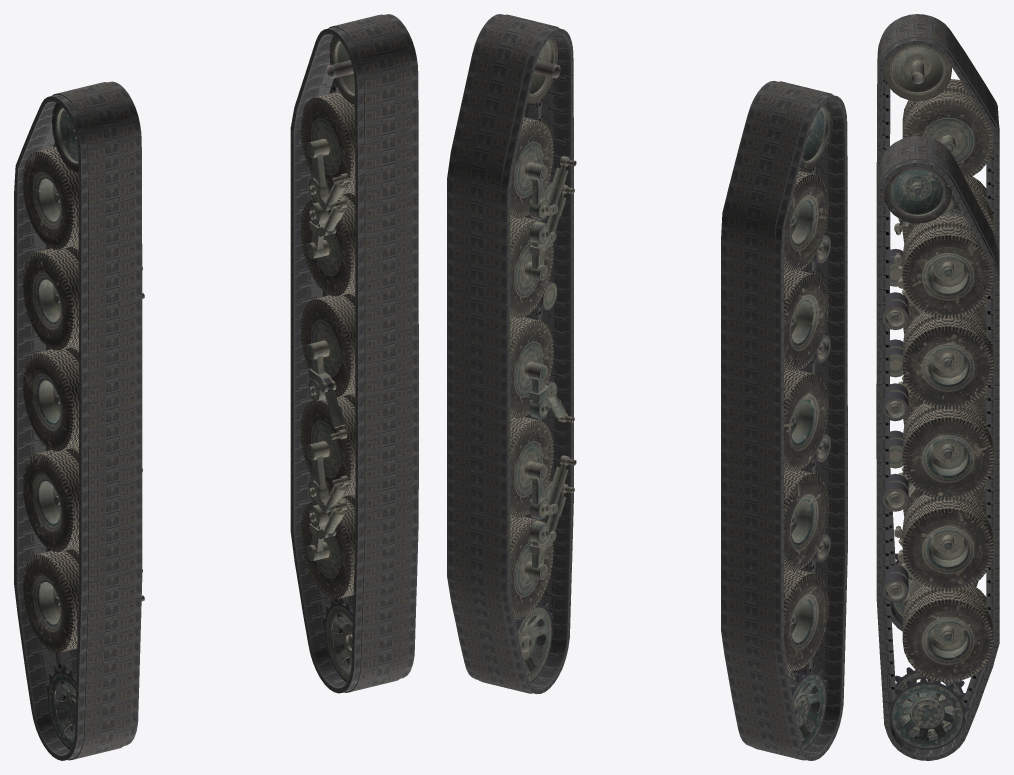
The model's file is Chassis.glb.
3 views of the same model, side by side, from view 1: azimuth 30°, elevation 25°; view 2: azimuth 150°, elevation 25°; view 3: azimuth 270°, elevation 25° (orthographic). The views are drawn at different scales.
Parts seen in each view (by area): view 1: set_1_group_0, set_0_group_0, set_3_group_0, set_2_group_0; view 2: set_1_group_0, set_0_group_0, set_3_group_0, set_2_group_0; view 3: set_3_group_0, set_0_group_0, set_2_group_0, set_1_group_0.
Boxes of the visible parts, bbox=[...] form: set_1_group_0: bbox=[14, 81, 142, 760]; set_0_group_0: bbox=[290, 14, 418, 693]; set_3_group_0: bbox=[300, 36, 398, 685]; set_2_group_0: bbox=[22, 103, 144, 753]; set_1_group_0: bbox=[721, 81, 847, 760]; set_0_group_0: bbox=[447, 14, 573, 694]; set_3_group_0: bbox=[481, 35, 576, 689]; set_2_group_0: bbox=[755, 102, 832, 756]; set_3_group_0: bbox=[882, 167, 993, 750]; set_0_group_0: bbox=[876, 136, 999, 760]; set_2_group_0: bbox=[884, 45, 993, 619]; set_1_group_0: bbox=[876, 14, 999, 631].
Bounding box in the file's own units: 3.33 × 6.27 × 1.16.
Materials: 4 (4 with a texture image).
